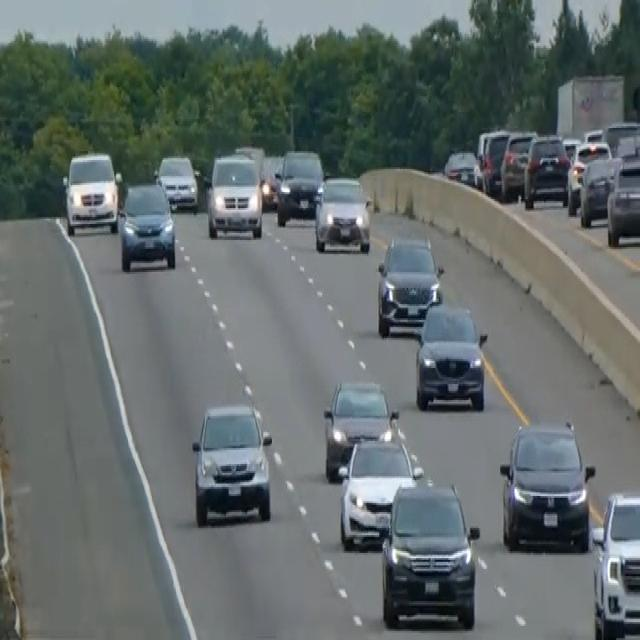car: (498, 416, 594, 553), (337, 425, 423, 549), (190, 398, 273, 526), (414, 298, 488, 411), (322, 375, 396, 480), (590, 487, 639, 638), (375, 231, 443, 338), (117, 178, 176, 272), (313, 172, 372, 255), (274, 147, 324, 225), (523, 132, 570, 208), (566, 137, 611, 215), (579, 154, 621, 226), (155, 151, 199, 212), (500, 128, 536, 199), (479, 128, 509, 194), (443, 146, 478, 187), (602, 119, 639, 155), (259, 153, 282, 210)
jeep: (378, 473, 481, 631)
lorry: (605, 137, 639, 247)
minivan: (61, 148, 122, 235), (205, 151, 263, 240)
